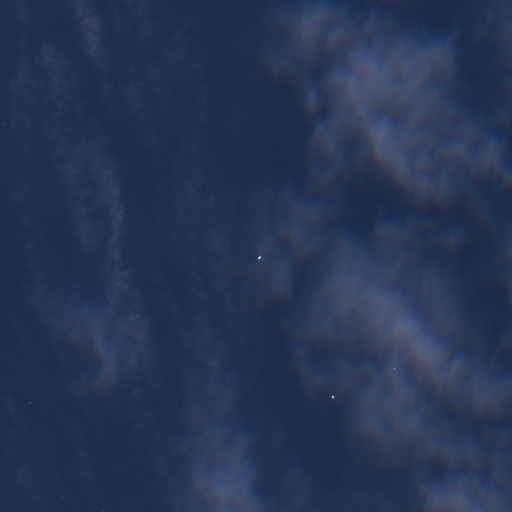Iceberg: (258, 256, 261, 259), (331, 395, 334, 398), (393, 367, 395, 369), (29, 402, 30, 403)
